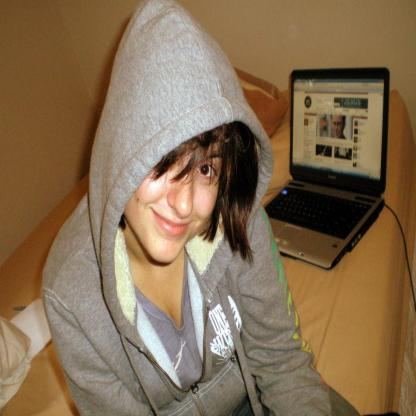board: (265, 61, 391, 274)
